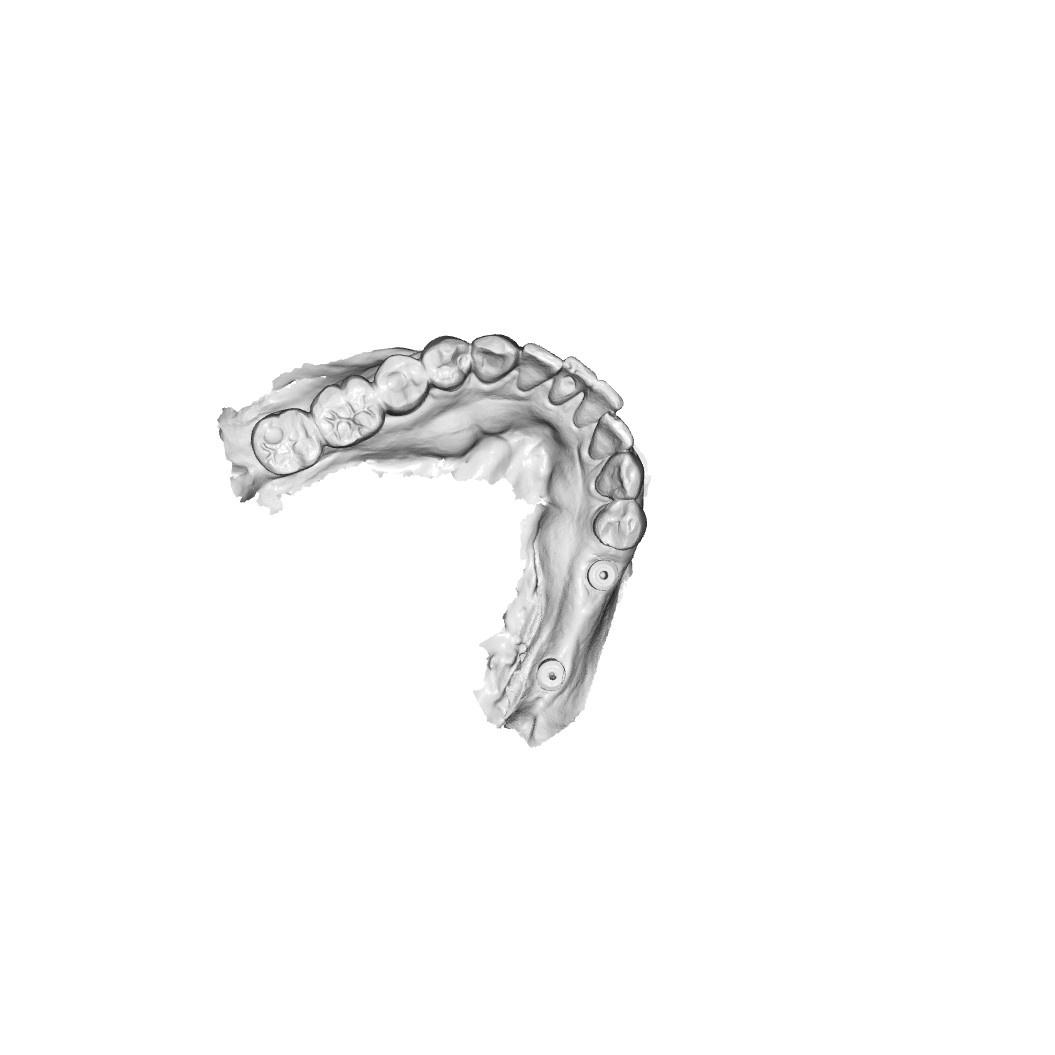canine: (592, 453, 646, 500), (468, 334, 518, 383)
implant: (586, 557, 620, 590), (537, 656, 568, 691)
incisor: (518, 343, 564, 390), (577, 377, 621, 423), (592, 415, 634, 459), (552, 360, 591, 398)
molar: (252, 409, 321, 476), (313, 377, 383, 442)
premolar: (593, 498, 646, 553), (423, 337, 474, 392), (380, 352, 425, 412)
